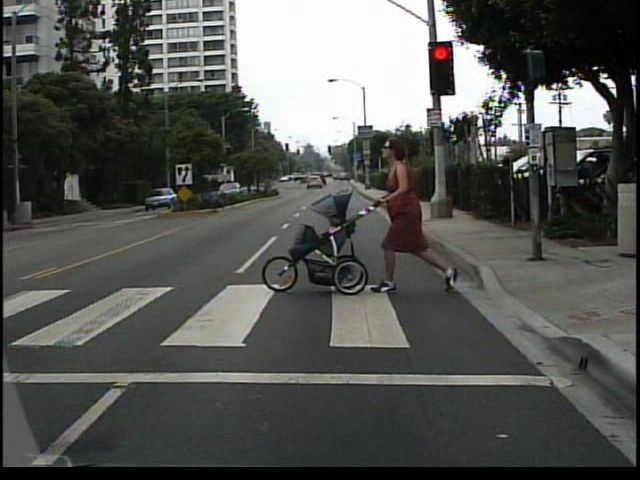person: (371, 132, 466, 298)
